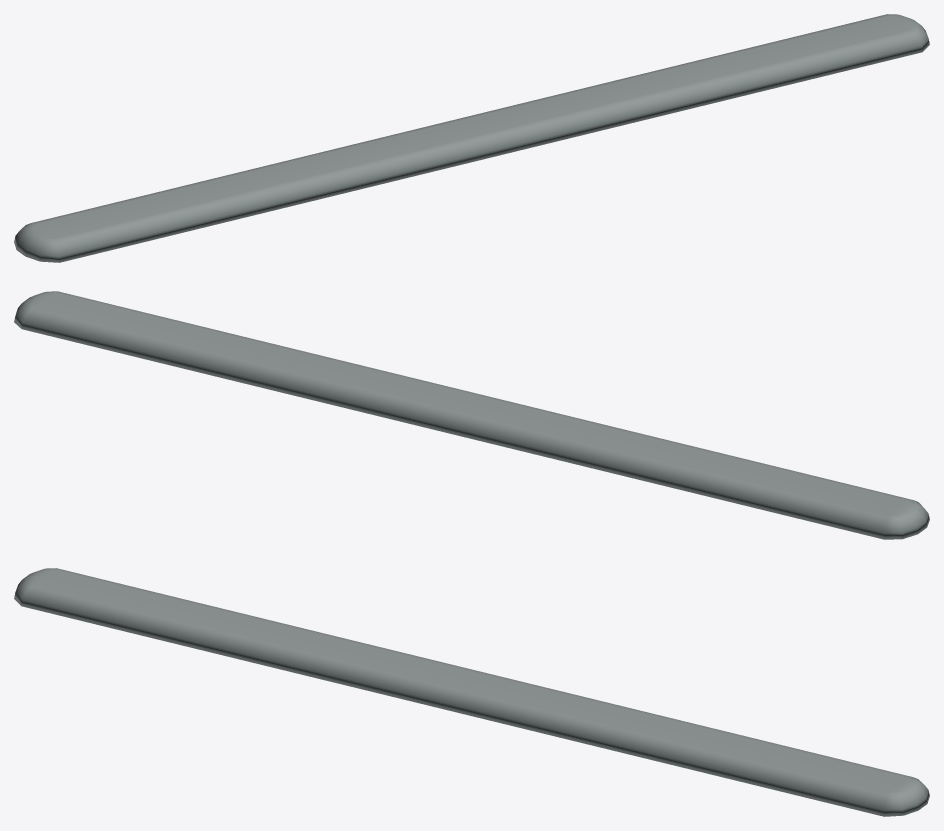
File: barra_v01.fbx
The picture shows the model from 3 angles, top to bottom: view 1: azimuth 30°, elevation 25°; view 2: azimuth 150°, elevation 25°; view 3: azimuth 330°, elevation 25°; orthographic projection.
Visible parts, largest first — view 1: barra_v01; view 2: barra_v01; view 3: barra_v01.
Boxes of the visible parts, <box> form: barra_v01: <box>14,14,929,262</box>; barra_v01: <box>14,291,929,539</box>; barra_v01: <box>14,568,929,816</box>.
Size of the model in its own units: 12.84 by 0.225 by 0.9343.
